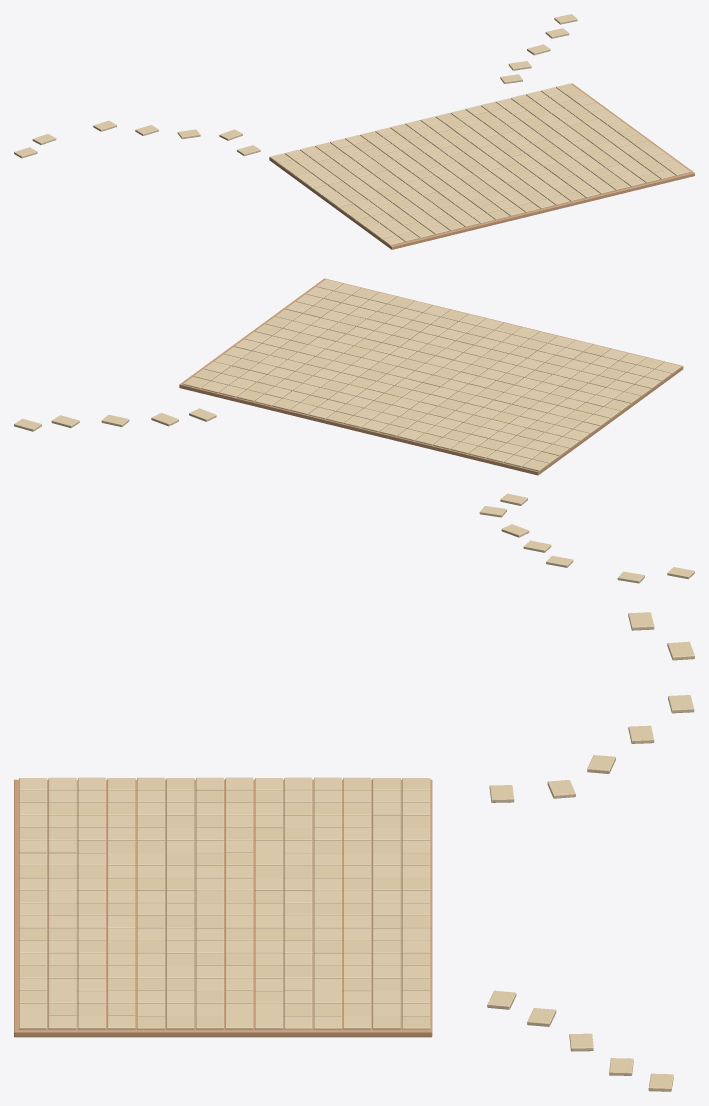
File: SM_TradingPlazaPaving.fbx
3 views of the same model, one above another, from view 1: azimuth 30°, elevation 25°; view 2: azimuth 150°, elevation 25°; view 3: azimuth 270°, elevation 25° (orthographic). The views are drawn at different scales.
Visible parts, largest first — view 1: SM_TradingPlazaPaving_Export; view 2: SM_TradingPlazaPaving_Export; view 3: SM_TradingPlazaPaving_Export.
Part boxes in pixels (x1,y1,x2,y2): SM_TradingPlazaPaving_Export: (14,14,694,249); SM_TradingPlazaPaving_Export: (14,278,694,583); SM_TradingPlazaPaving_Export: (14,612,694,1091).
Size of the model in its own units: 5578 by 3419 by 137.
